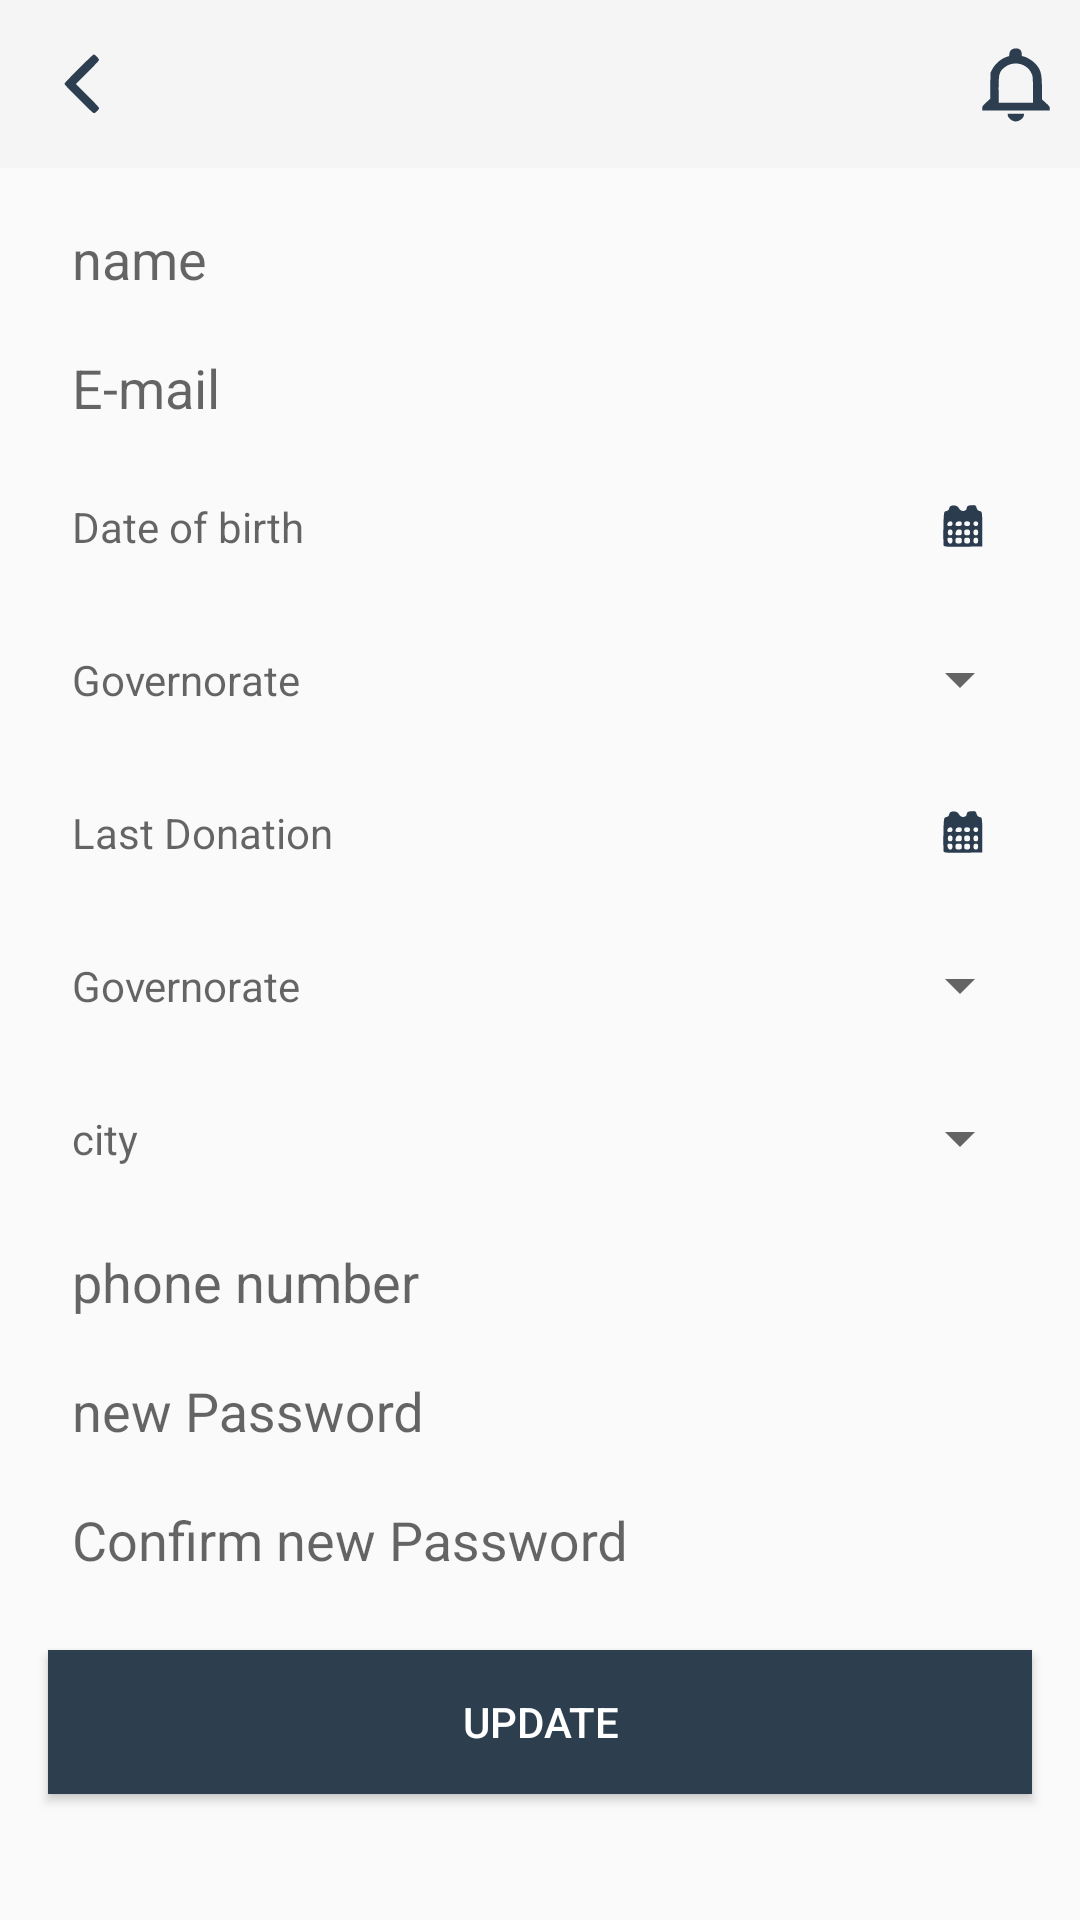

Locate icon controls on the screen. Image size 1080x1920, boxes as bbox(x1, y1, x2, y2).
leftarrow: bbox(64, 54, 99, 113)
notfications: bbox(982, 48, 1050, 122)
